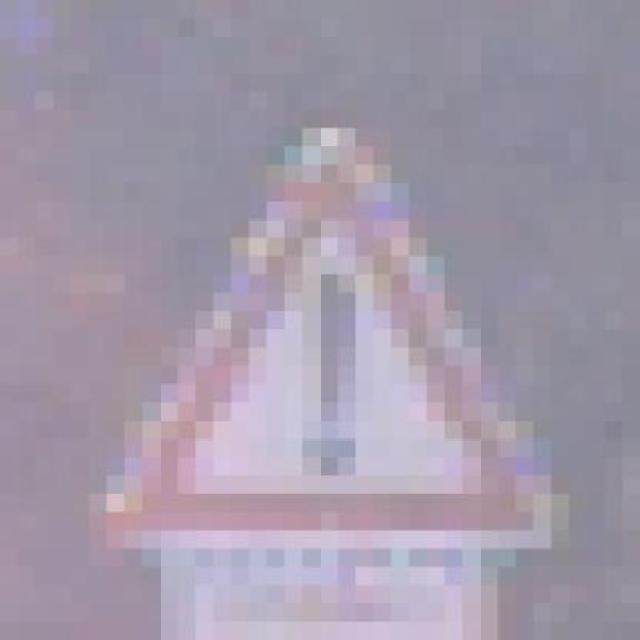Attention Please-: (64, 123, 579, 580)
